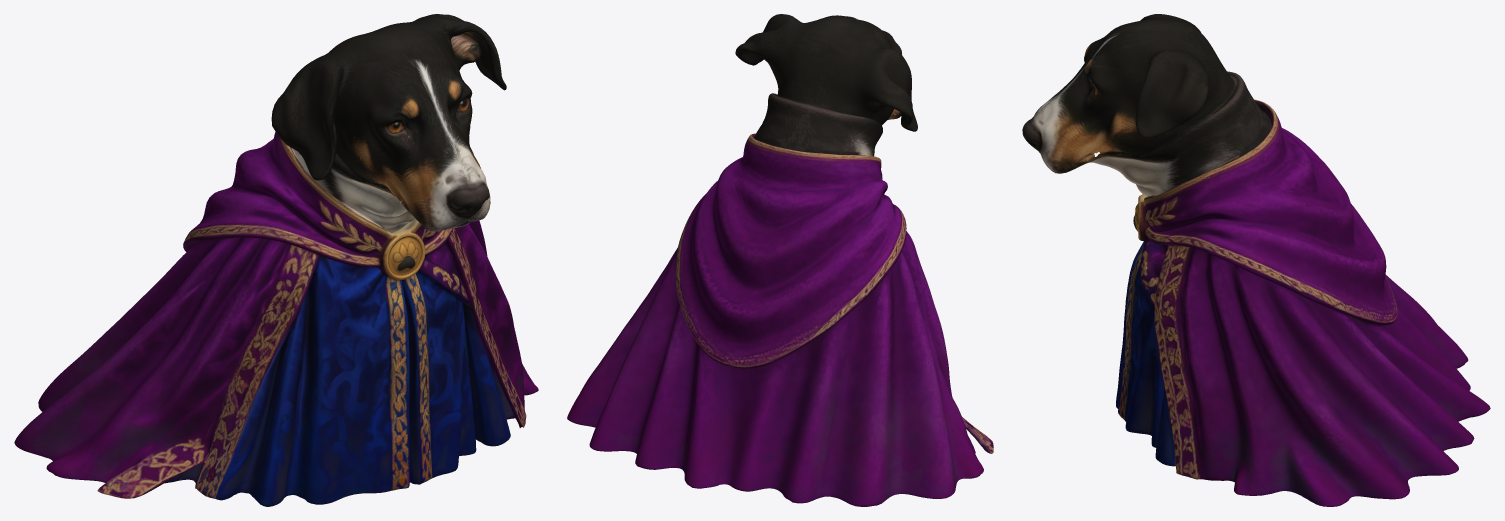
File: shourdo-bust.glb
The picture shows the model from 3 angles, left to right: view 1: azimuth 30°, elevation 25°; view 2: azimuth 150°, elevation 25°; view 3: azimuth 270°, elevation 25°; orthographic projection. The views are drawn at different scales.
Visible parts, largest first — view 1: tripo_node_cfe0d307; view 2: tripo_node_cfe0d307; view 3: tripo_node_cfe0d307.
Part boxes in pixels (box(x1,y1,x2,y2)): tripo_node_cfe0d307: box(14, 14, 538, 506); tripo_node_cfe0d307: box(567, 14, 993, 506); tripo_node_cfe0d307: box(1022, 14, 1490, 506).
Bounding box in the file's own units: 97.64 × 84.68 × 93.35.
1 material, 1 textured.
